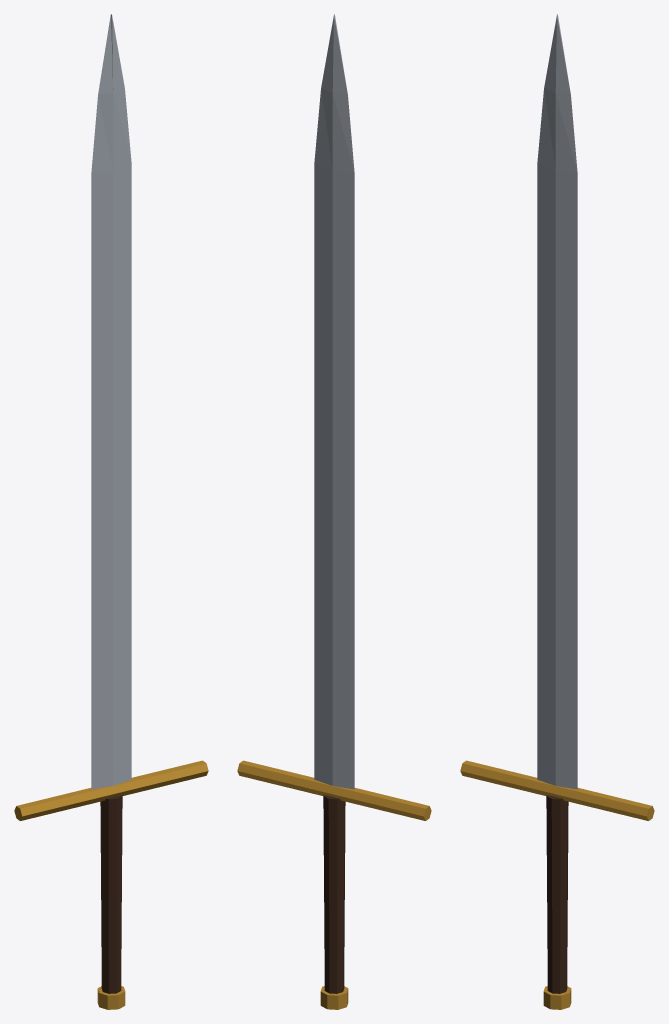
The model's file is g-greatsword.glb.
The picture shows the model from 3 angles, left to right: view 1: azimuth 30°, elevation 25°; view 2: azimuth 150°, elevation 25°; view 3: azimuth 330°, elevation 25°; orthographic projection.
Visible parts, largest first — view 1: g-greatsword; view 2: g-greatsword; view 3: g-greatsword.
Part boxes in pixels (x1=…): g-greatsword: x1=14, y1=14, x2=208, y2=1009; g-greatsword: x1=237, y1=14, x2=431, y2=1009; g-greatsword: x1=460, y1=14, x2=654, y2=1009.
Bounding box in the file's own units: 0.3 × 1.52 × 0.04.
